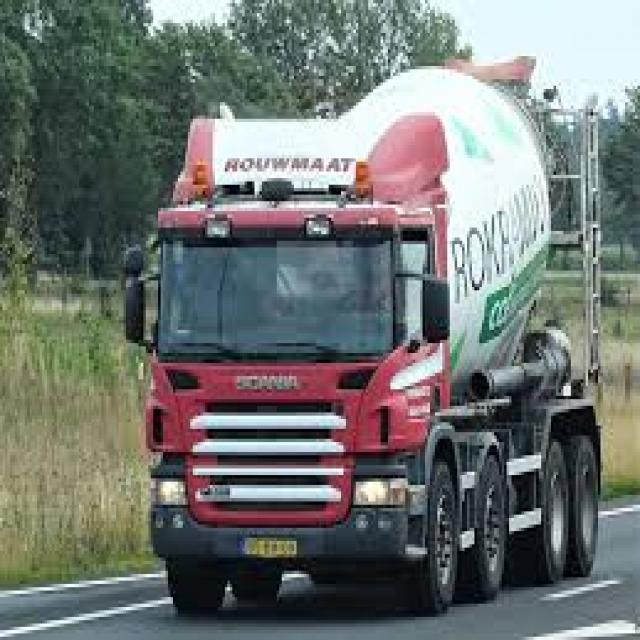Mixer Truck: (121, 52, 605, 620)
